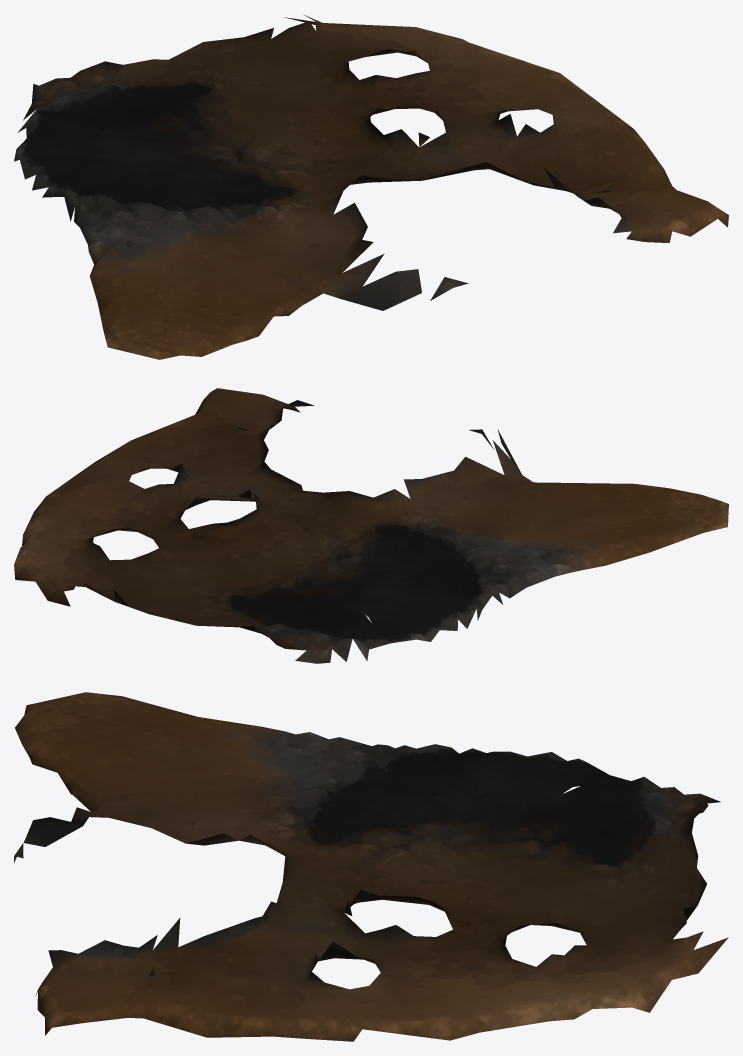
The model's file is platform2collider1.fbx.
The picture shows the model from 3 angles, top to bottom: view 1: azimuth 30°, elevation 25°; view 2: azimuth 150°, elevation 25°; view 3: azimuth 270°, elevation 25°; orthographic projection. The views are drawn at different scales.
Visible parts, largest first — view 1: platform2collider1; view 2: platform2collider1; view 3: platform2collider1.
Boxes of the visible parts, <box> form: platform2collider1: <box>14,15,728,359</box>; platform2collider1: <box>14,388,728,663</box>; platform2collider1: <box>14,692,728,1041</box>.
Bounding box in the file's own units: 5704 × 400 × 5065.
